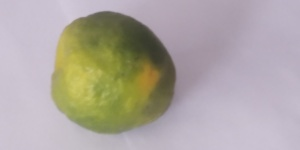BAD: (49, 8, 176, 132)
